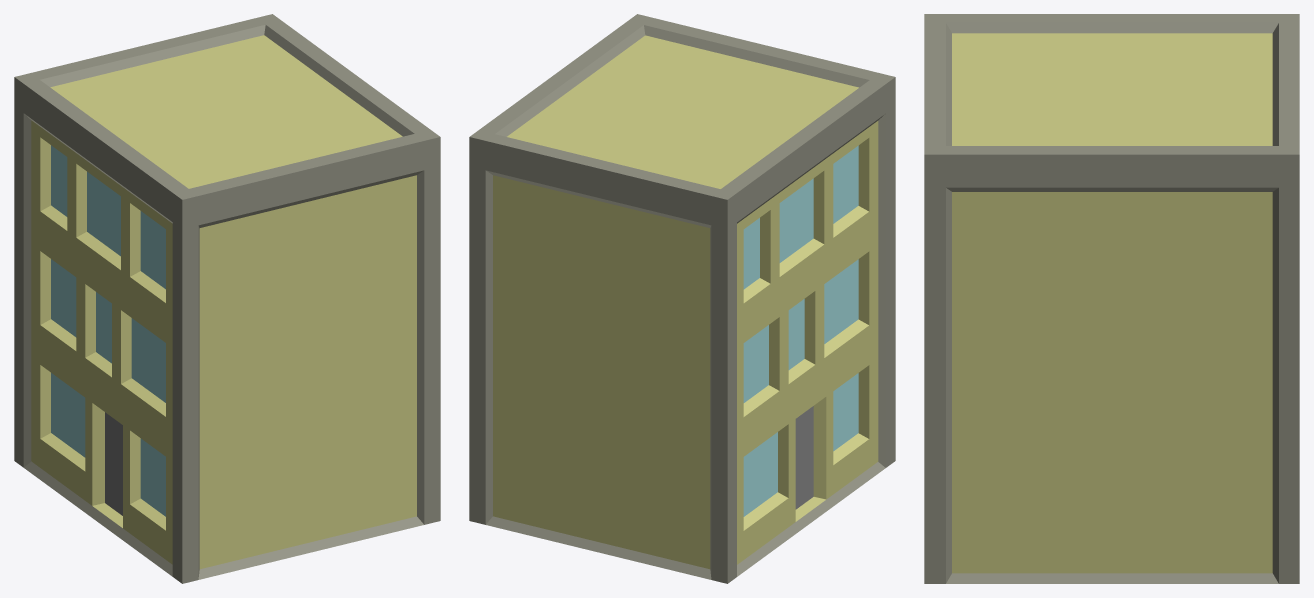
File: big_building.fbx
3 views of the same model, side by side, from view 1: azimuth 30°, elevation 25°; view 2: azimuth 150°, elevation 25°; view 3: azimuth 270°, elevation 25° (orthographic). The views are drawn at different scales.
Parts seen in each view (by area): view 1: big_building; view 2: big_building; view 3: big_building.
Boxes of the visible parts, x1,y1,x2,y2 form: big_building: (14,14,440,583); big_building: (469,14,895,583); big_building: (924,14,1299,583).
Bounding box in the file's own units: 8.25 × 11.72 × 9.29.
